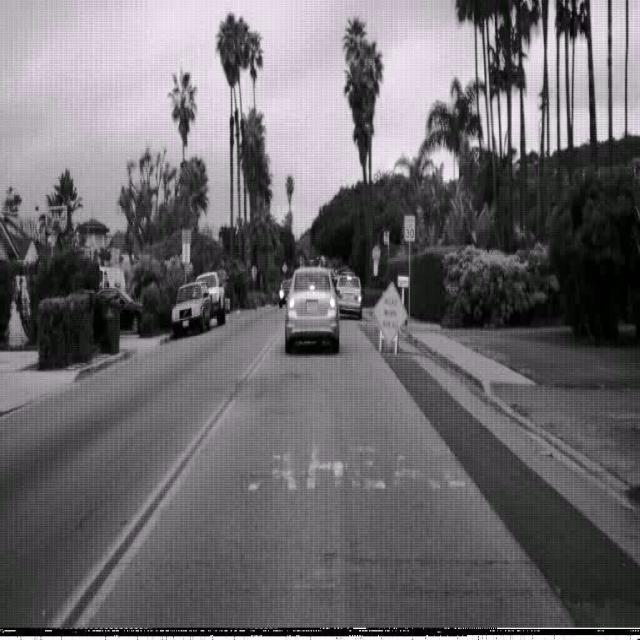speedLimit30: (403, 213, 416, 243)
